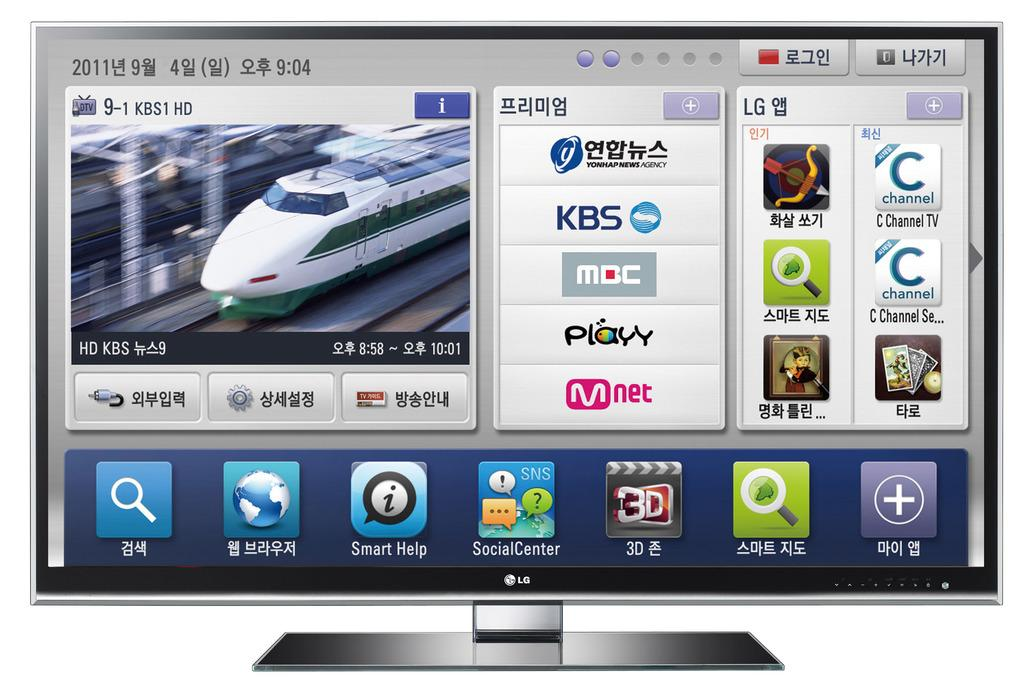Computer-monitor: (8, 2, 1024, 621)
